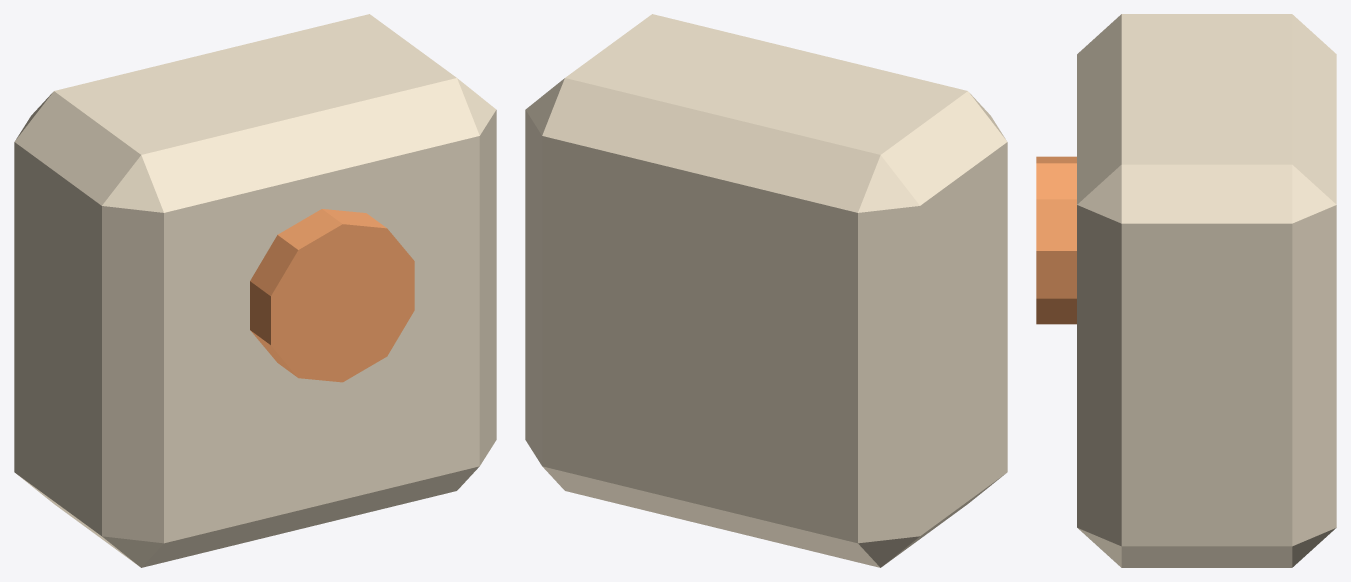
3 renders of one model, left to right at view 1: azimuth 30°, elevation 25°; view 2: azimuth 150°, elevation 25°; view 3: azimuth 270°, elevation 25°, orthographic. The views are drawn at different scales.
Visible parts, largest first — view 1: Wall-free call panel, Call button; view 2: Wall-free call panel; view 3: Wall-free call panel, Call button.
Boxes of the visible parts, x1,y1,x2,y2 form: Wall-free call panel: [14, 14, 496, 567]; Call button: [250, 209, 414, 382]; Wall-free call panel: [525, 14, 1007, 567]; Wall-free call panel: [1077, 14, 1336, 567]; Call button: [1036, 156, 1076, 324].
Size of the model in its own units: 12 by 12 by 8.1.
